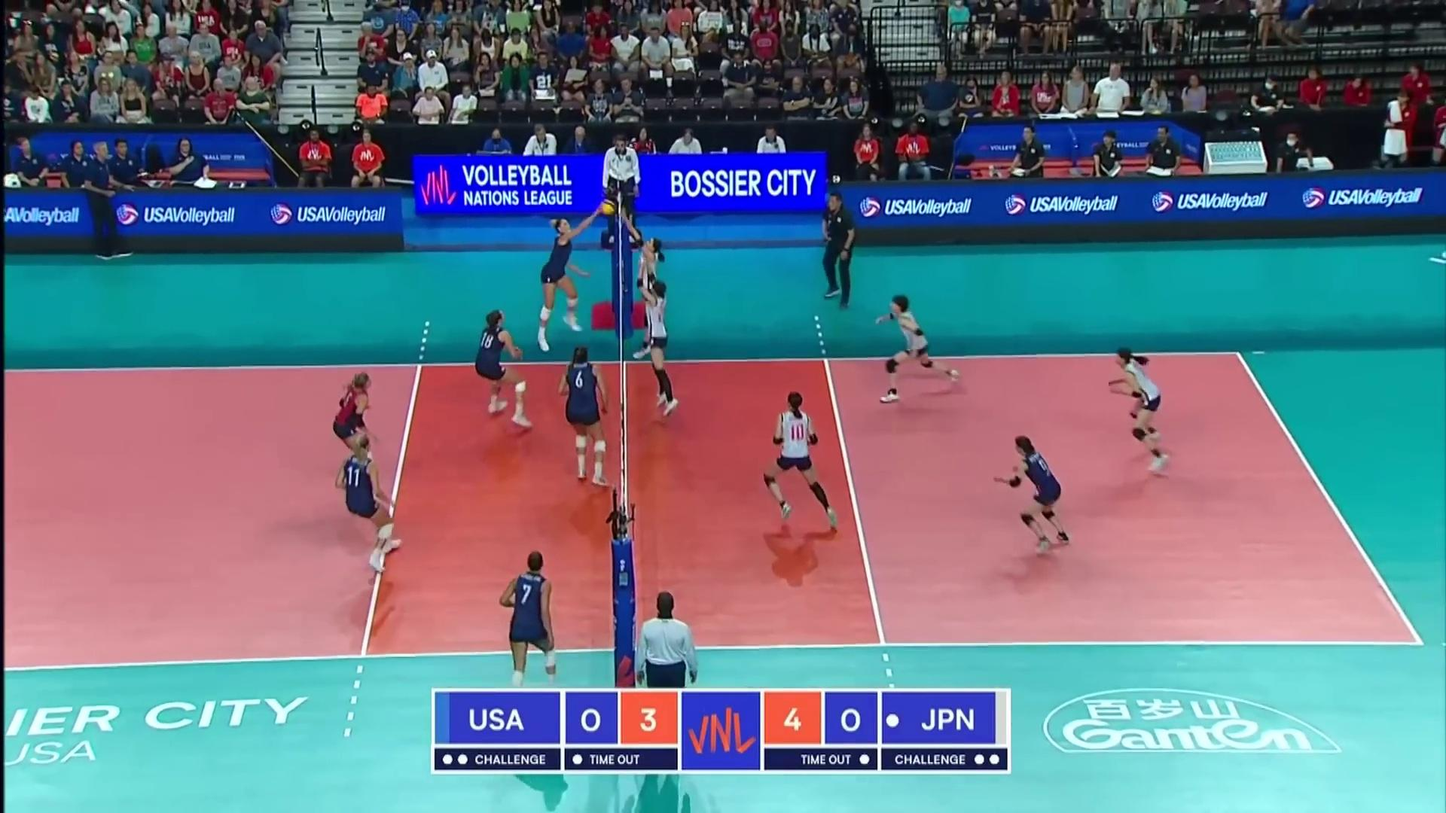player: (764, 391, 841, 532), (874, 298, 961, 404), (554, 342, 618, 486), (539, 205, 604, 346), (340, 431, 402, 574), (995, 436, 1070, 552), (1106, 348, 1174, 475), (499, 554, 560, 687), (332, 374, 385, 505), (470, 309, 526, 427), (639, 282, 681, 419), (634, 232, 665, 363)
refree: (639, 592, 696, 760), (602, 136, 640, 242)
